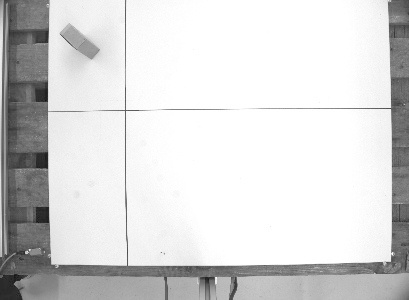b1: (58, 20, 102, 62)
